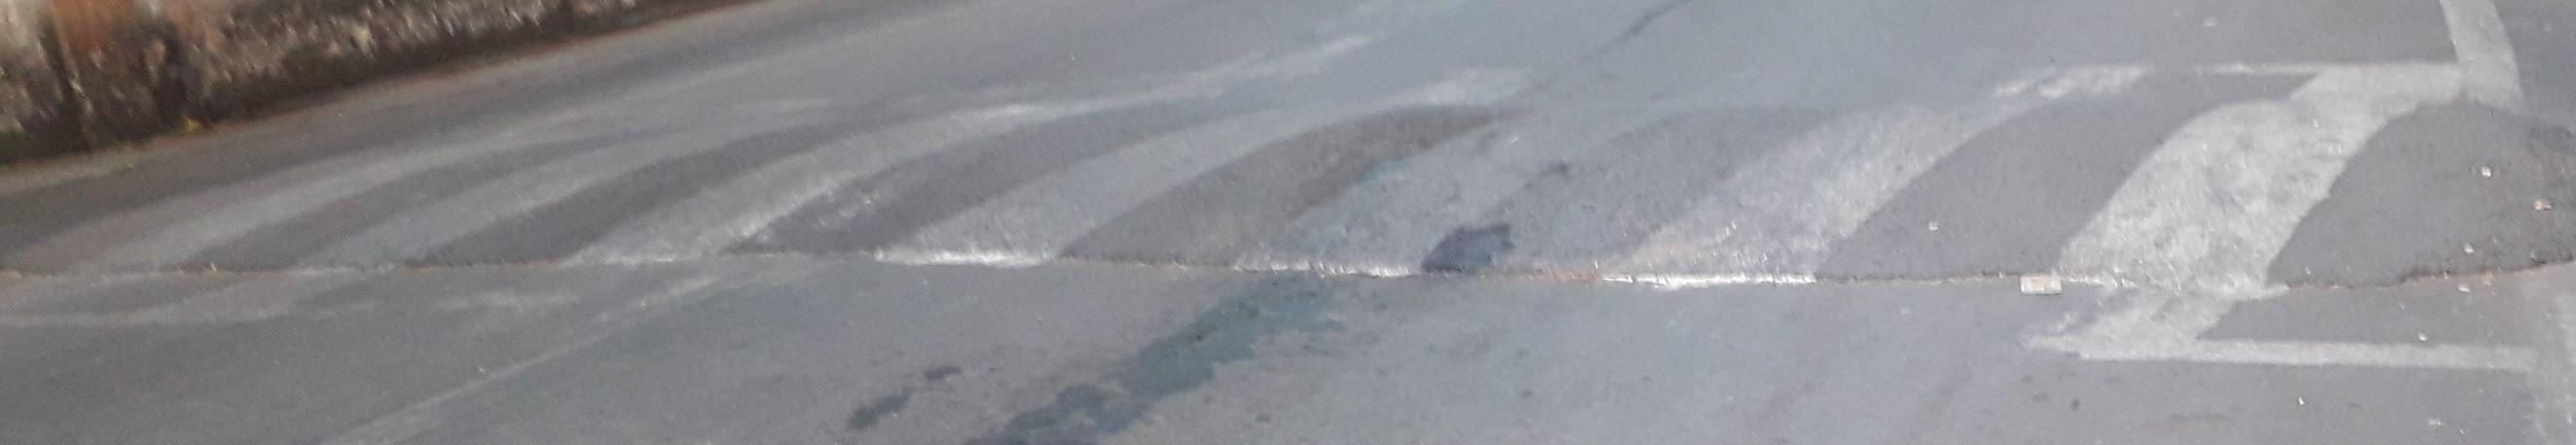speed-bump: (10, 61, 2576, 280)
